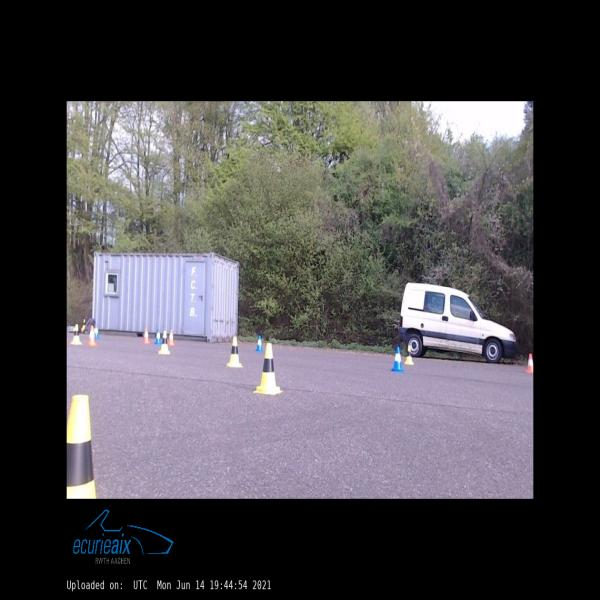blue_cone: (391, 346, 404, 372), (256, 336, 264, 352), (154, 329, 162, 344), (94, 325, 100, 339)
orange_cone: (86, 326, 96, 346), (526, 354, 533, 373), (142, 328, 150, 343), (168, 330, 175, 344)
yellow_cone: (67, 395, 95, 498), (253, 343, 282, 395), (227, 337, 243, 367), (158, 331, 171, 354), (70, 324, 82, 344), (405, 346, 414, 364), (82, 318, 85, 330)
